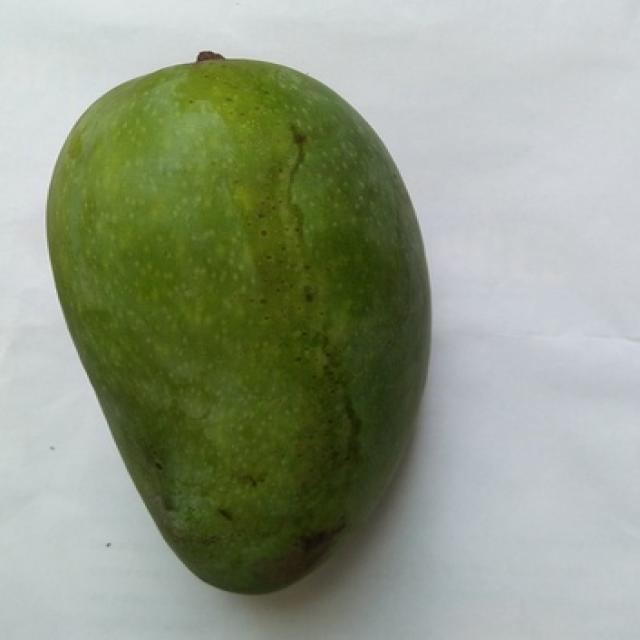Mango: (47, 54, 428, 591)
